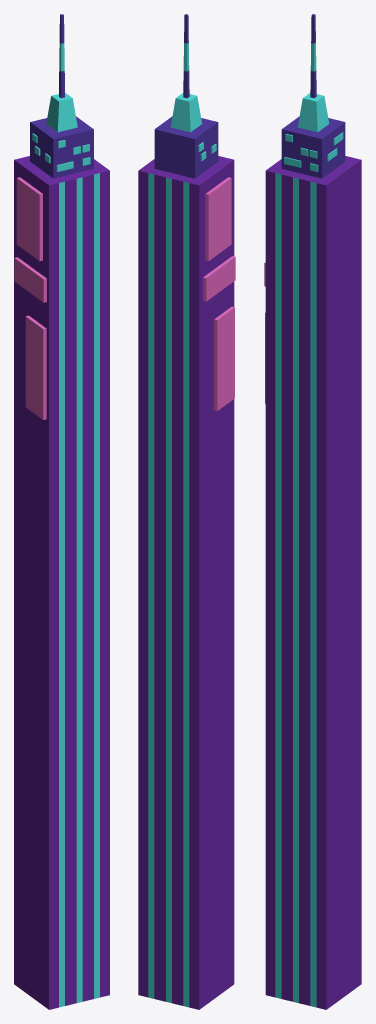
The model's file is Build_sci_fi_3.fbx.
3 views of the same model, side by side, from view 1: azimuth 30°, elevation 25°; view 2: azimuth 150°, elevation 25°; view 3: azimuth 330°, elevation 25° (orthographic).
Visible parts, largest first — view 1: Build_sci_fi_3; view 2: Build_sci_fi_3; view 3: Build_sci_fi_3.
Part boxes in pixels (<box>): Build_sci_fi_3: <box>14,14,109,1009</box>; Build_sci_fi_3: <box>138,14,235,1009</box>; Build_sci_fi_3: <box>264,14,361,1009</box>.
Bounding box in the file's own units: 66.73 × 969 × 63.28.
